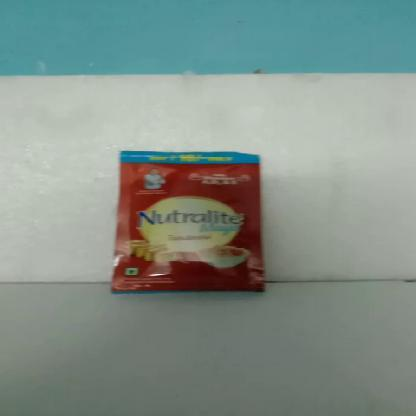Nutralite TANDOORI MAYO 30g: (113, 149, 262, 291)
